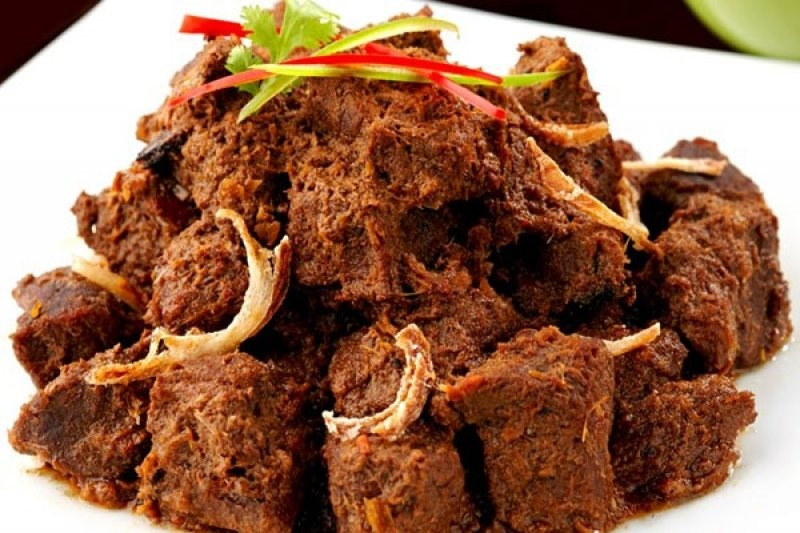rendang: (9, 3, 795, 533)
